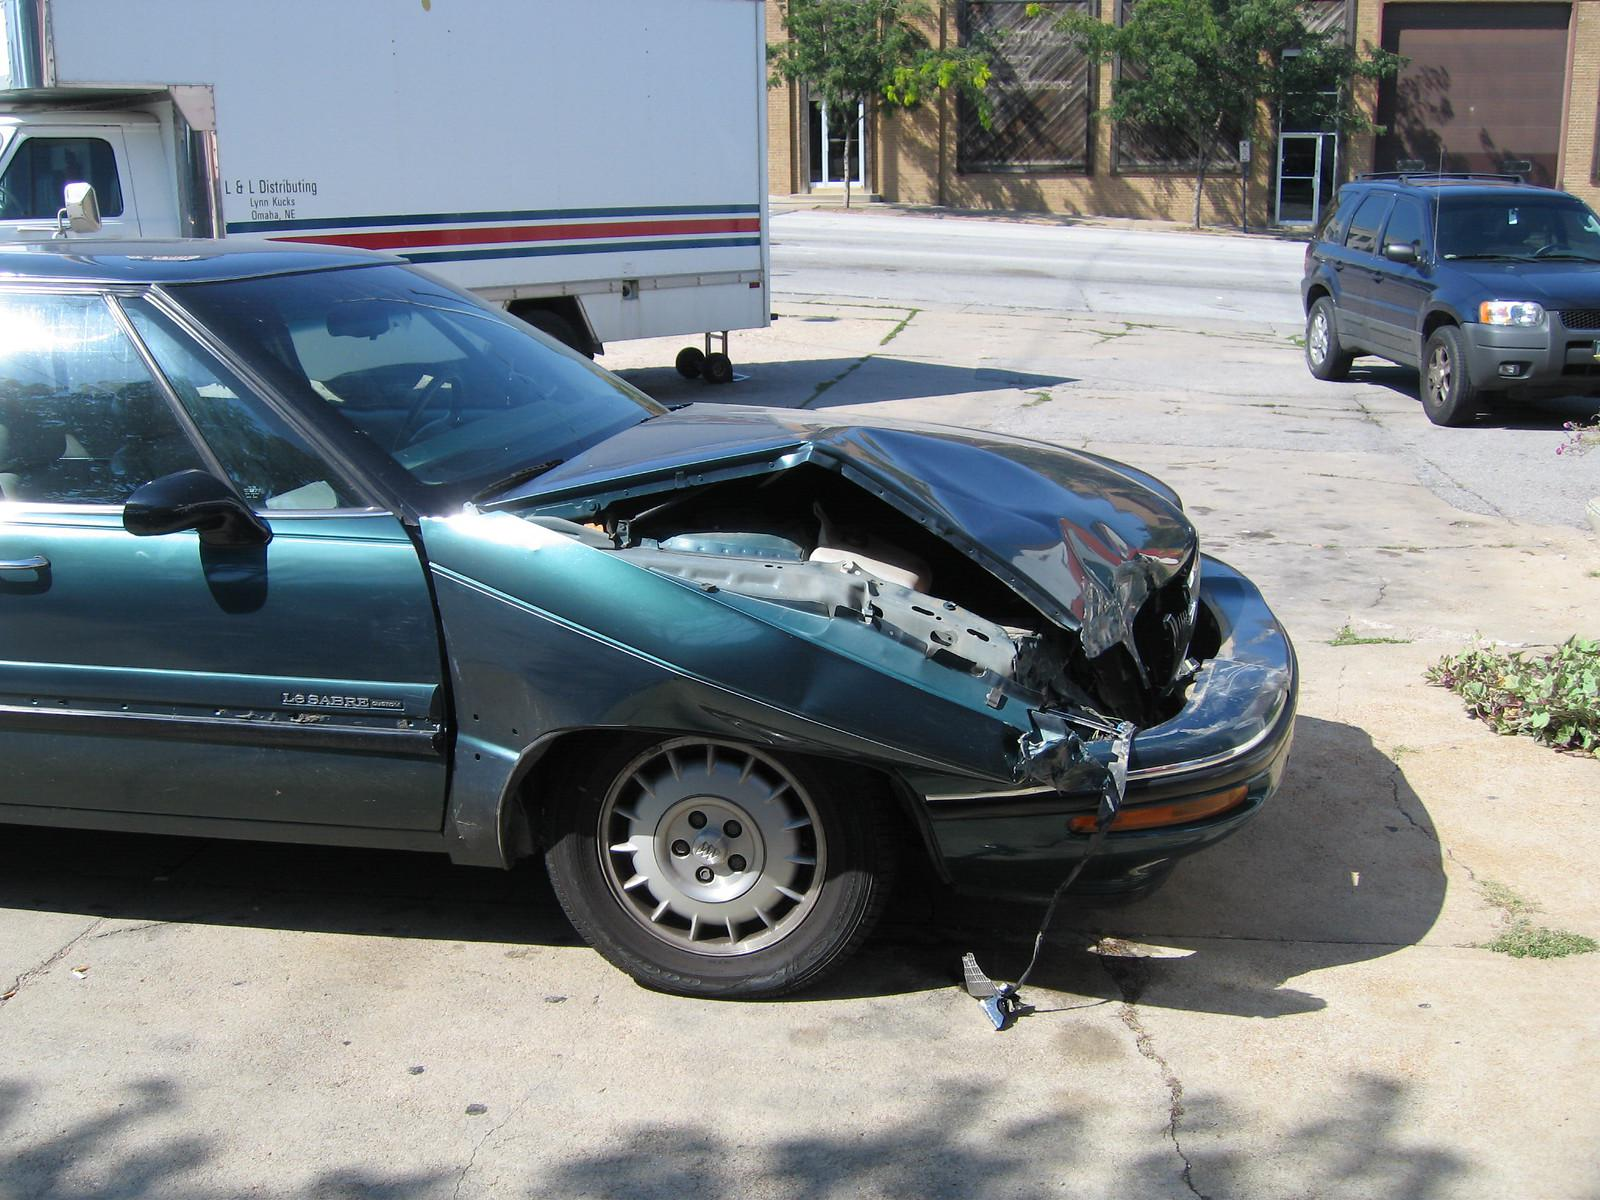bonnet-dent: (586, 377, 1154, 600)
doorouter-dent: (0, 473, 414, 866)
fender-dent: (418, 592, 957, 776)
front-bumper-dent: (1085, 616, 1363, 856)
